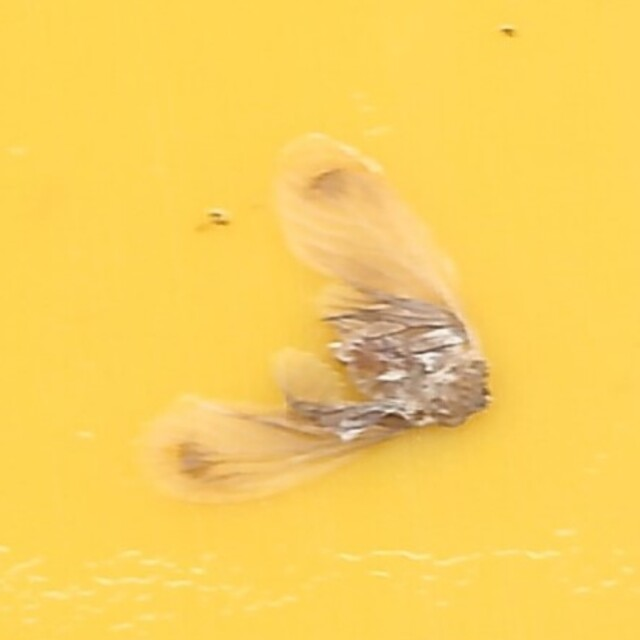Hemiptera: (144, 132, 496, 508)
